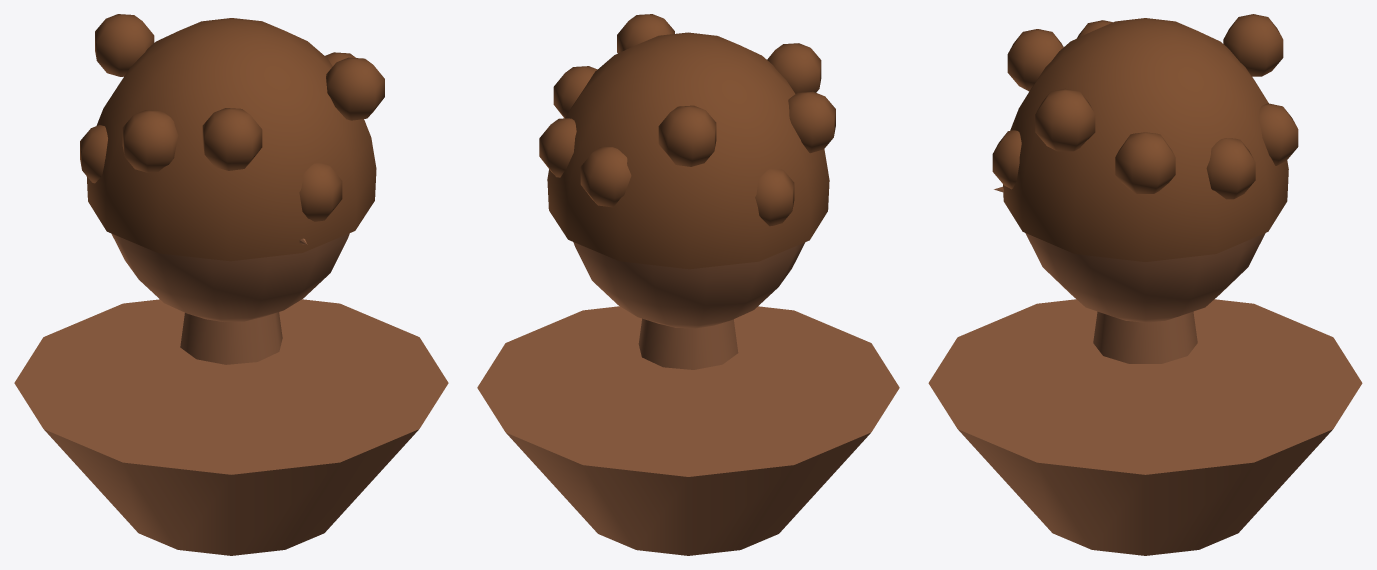
The model's file is raw_003.glb.
The picture shows the model from 3 angles, left to right: view 1: azimuth 30°, elevation 25°; view 2: azimuth 150°, elevation 25°; view 3: azimuth 270°, elevation 25°; orthographic projection. The views are drawn at different scales.
Bounding box in the file's own units: 1.74 × 2.13 × 1.74.
